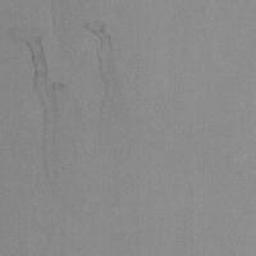Water spot: (8, 20, 133, 212)
